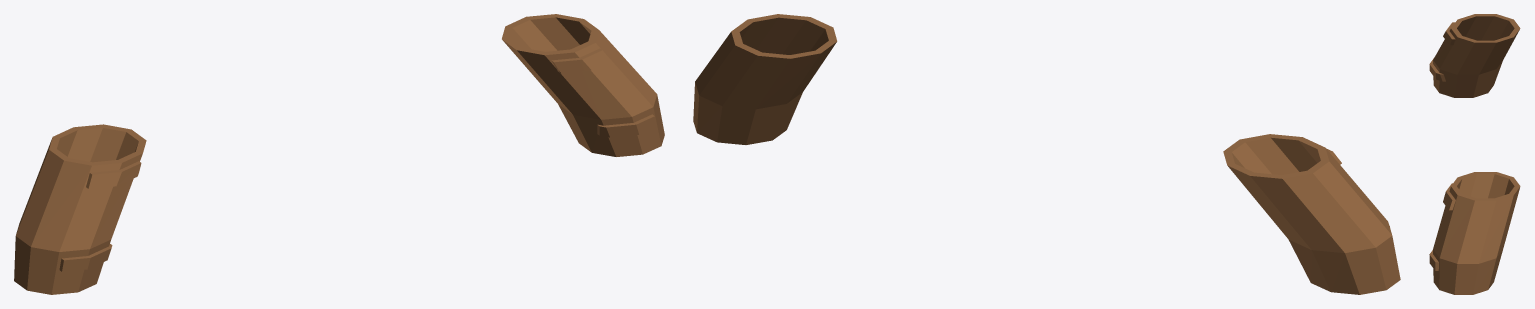
The model's file is leather_wrists-female.glb.
3 views of the same model, side by side, from view 1: azimuth 30°, elevation 25°; view 2: azimuth 150°, elevation 25°; view 3: azimuth 270°, elevation 25° (orthographic). The views are drawn at different scales.
Parts seen in each view (by area): view 1: leather wrist guard -1, leather wrist guard 1, Bracer rolled upper lip -1, Bracer rolled upper lip 1, Bracer lower fastening strap 1, Bracer lower fastening strap -1; view 2: leather wrist guard -1, leather wrist guard 1; view 3: leather wrist guard 1, leather wrist guard -1, Bracer rolled upper lip 1, Bracer lower fastening strap -1, Bracer rolled upper lip -1, Bracer lower fastening strap 1.
Boxes of the visible parts, x1,y1,x2,y2 form: leather wrist guard -1: [14, 124, 146, 294]; leather wrist guard 1: [502, 14, 664, 156]; Bracer rolled upper lip -1: [86, 161, 141, 188]; Bracer rolled upper lip 1: [551, 48, 610, 73]; Bracer lower fastening strap 1: [597, 114, 656, 137]; Bracer lower fastening strap -1: [59, 244, 112, 271]; leather wrist guard -1: [1223, 134, 1400, 294]; leather wrist guard 1: [693, 14, 837, 144]; leather wrist guard 1: [1433, 172, 1520, 294]; leather wrist guard -1: [1433, 14, 1520, 97]; Bracer rolled upper lip 1: [1443, 183, 1455, 210]; Bracer lower fastening strap -1: [1429, 58, 1445, 81]; Bracer rolled upper lip -1: [1443, 22, 1455, 45]; Bracer lower fastening strap 1: [1429, 250, 1438, 270].
Bounding box in the file's own units: 3.79 × 0.6079 × 0.6559.
